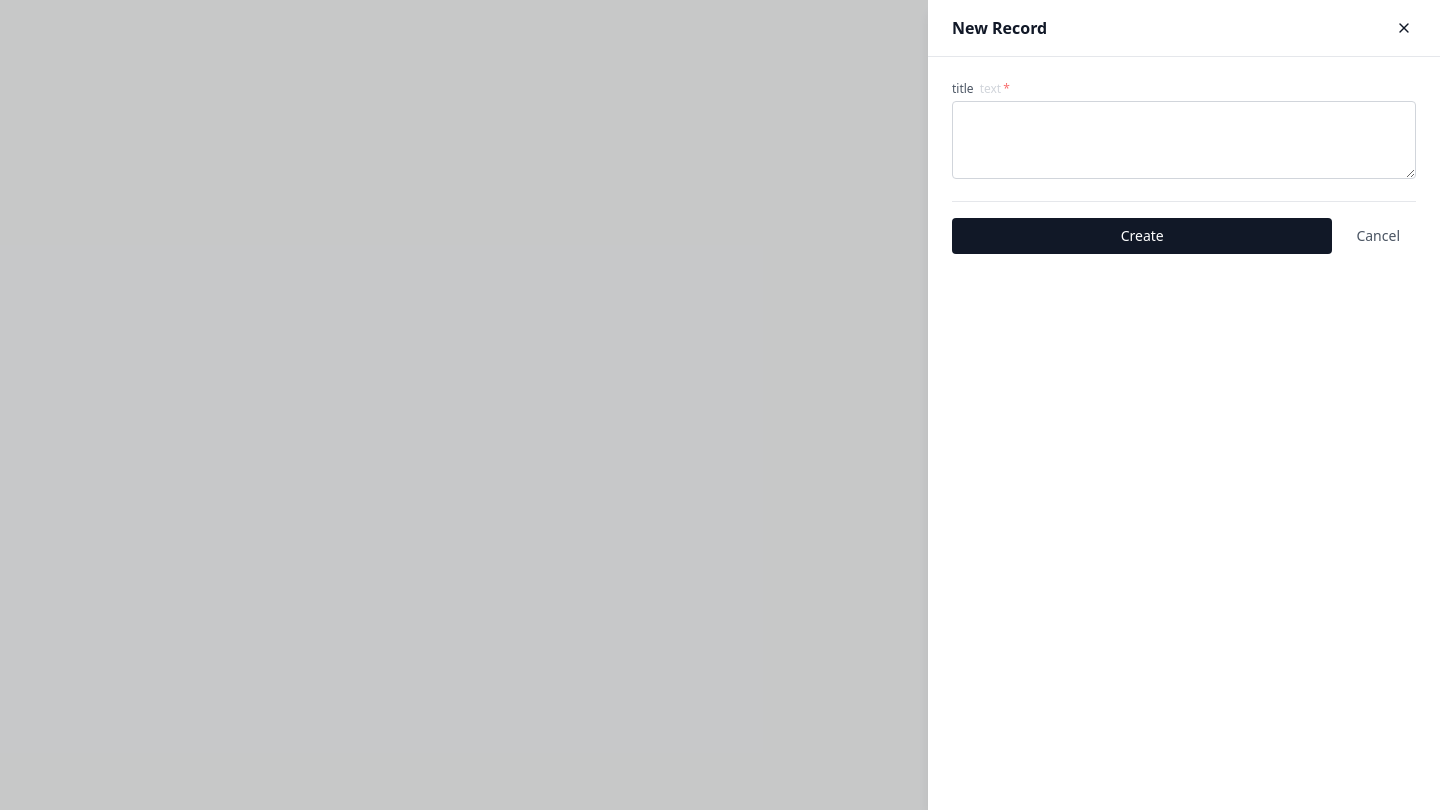
RecordForm › disables submit button while saving
Type "test" into the text box labelled "titletext*" at point(1184, 140), box [952,101,1416,179]
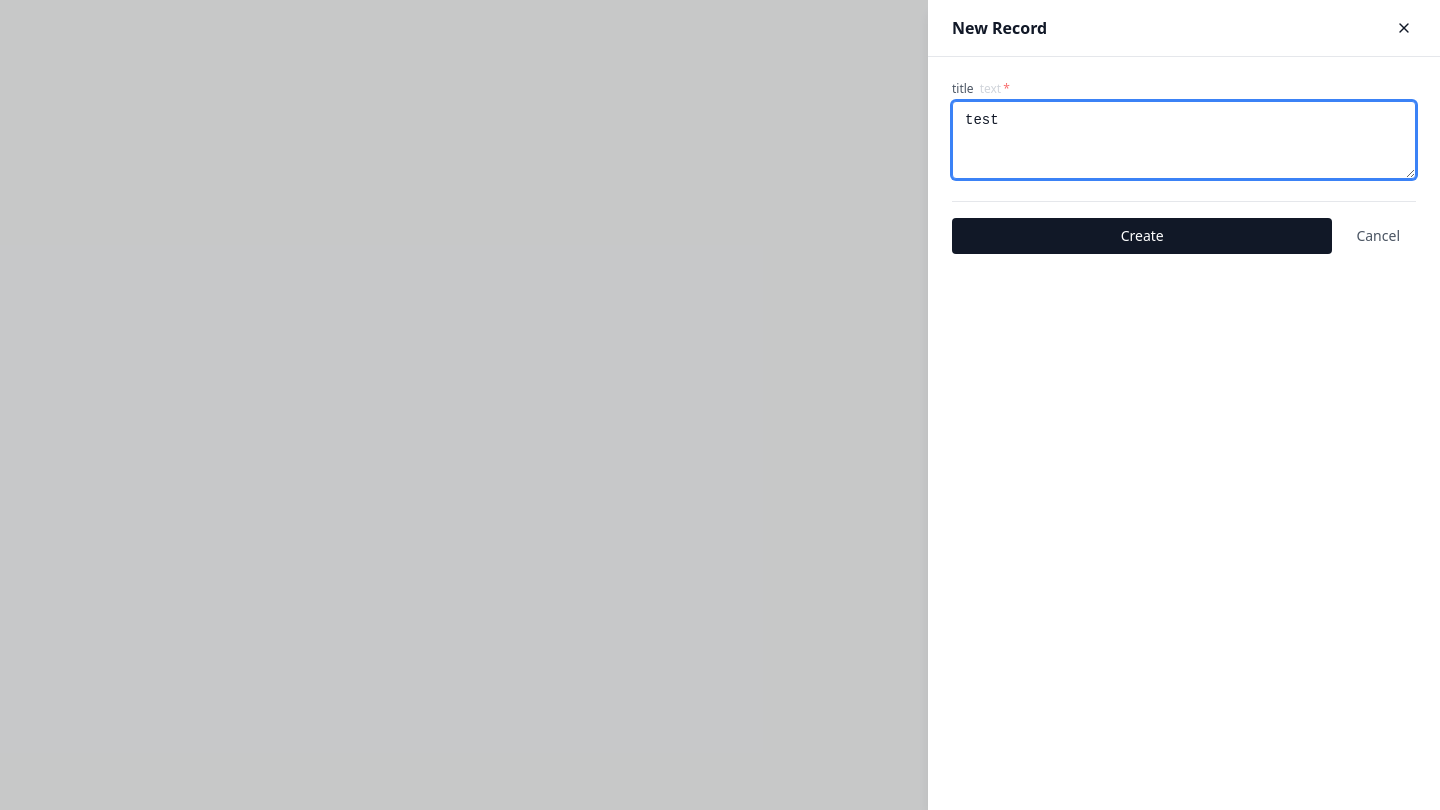
Click the button "Create" at point(1142, 236), box [952,218,1332,254]
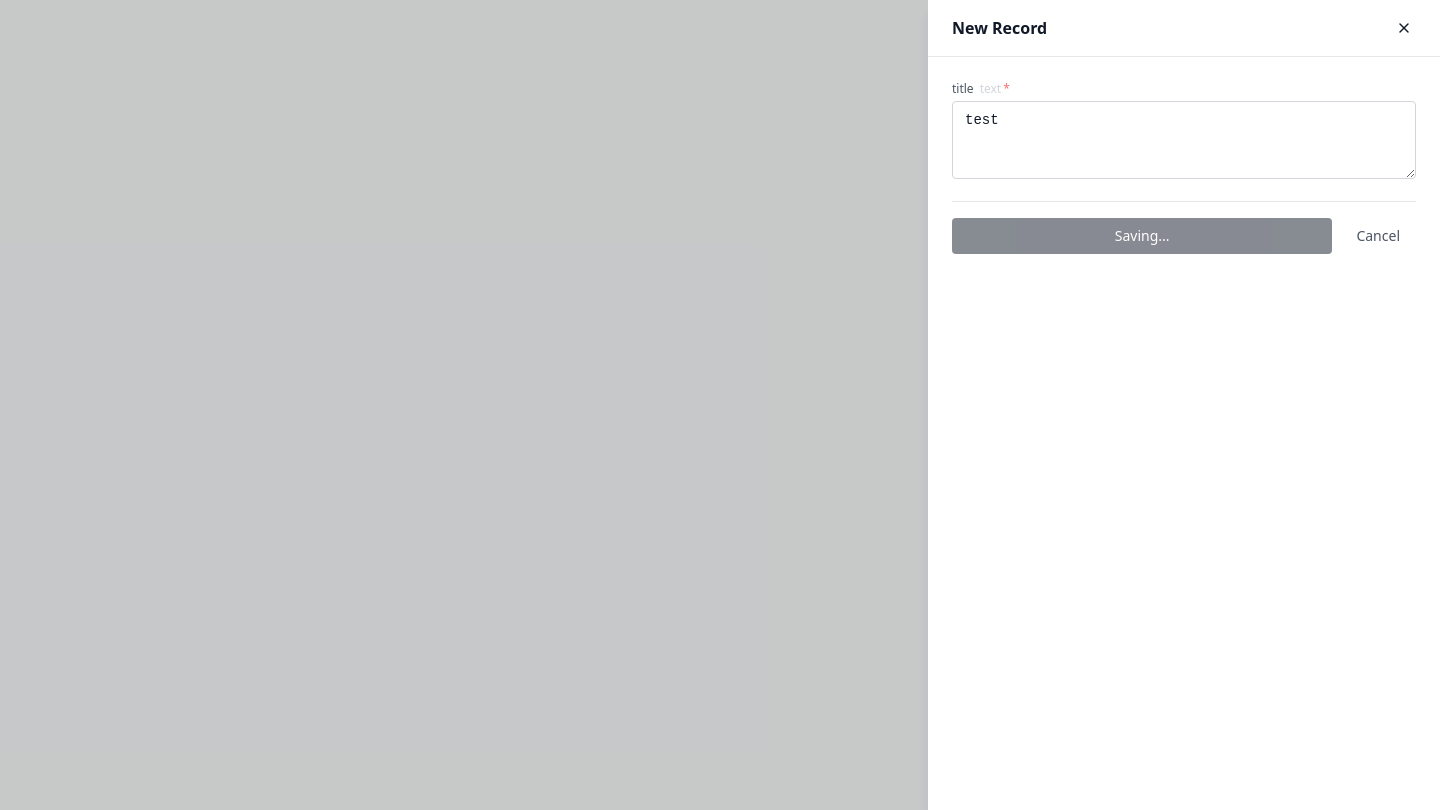
expect the button "Saving..." is disabled: met, box [952,218,1332,254]
